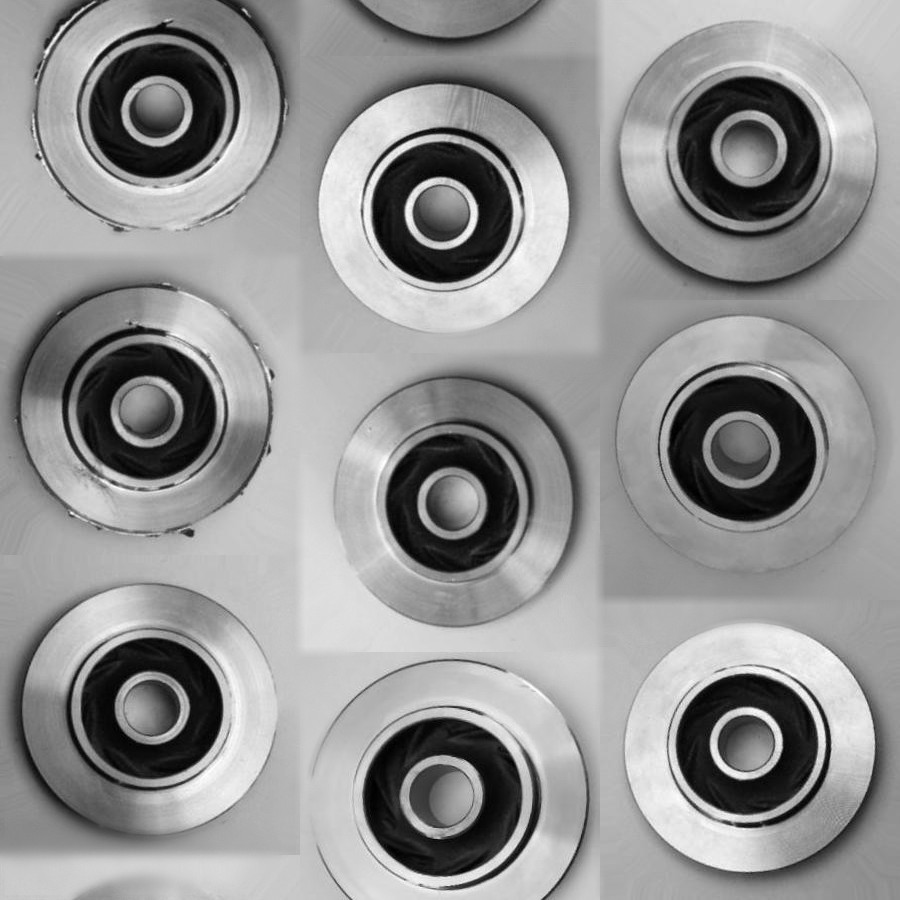pump_impeller: (607, 12, 891, 299), (1, 275, 288, 554), (320, 366, 603, 638), (302, 70, 581, 345), (621, 308, 890, 588), (299, 656, 597, 900), (21, 586, 288, 854), (4, 1, 292, 240), (622, 616, 884, 875)
